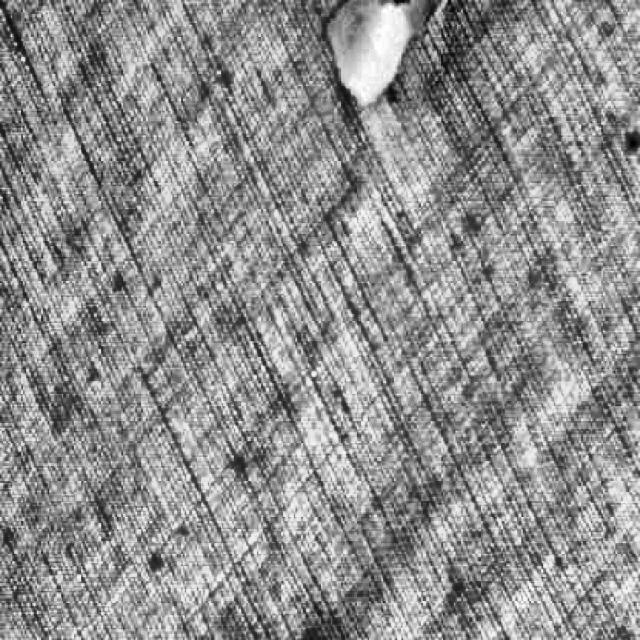objects: (316, 0, 416, 121)
